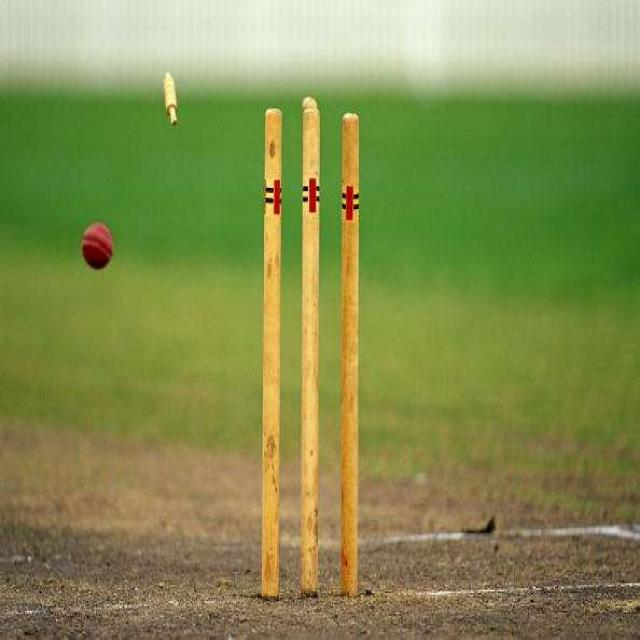ball: (82, 221, 114, 272)
stump: (265, 101, 358, 596)
